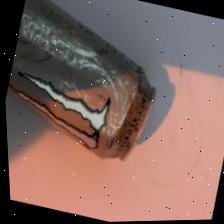metal: (0, 0, 172, 183)
